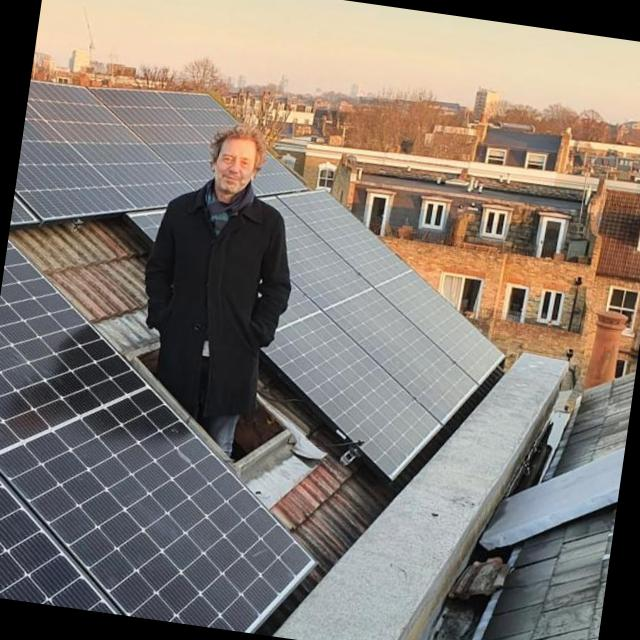no faulty: (0, 392, 314, 632), (0, 241, 140, 446), (264, 314, 435, 472), (334, 291, 471, 419)
